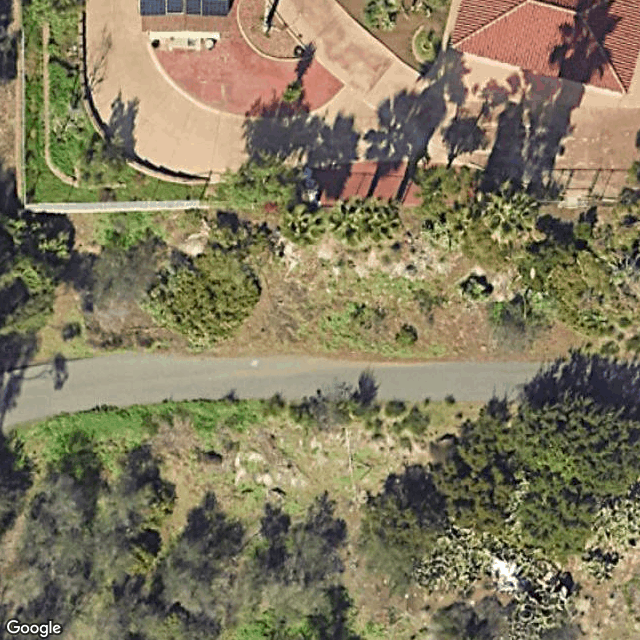palm: (474, 175, 545, 248), (275, 200, 330, 250), (360, 194, 406, 248), (330, 195, 374, 250)
